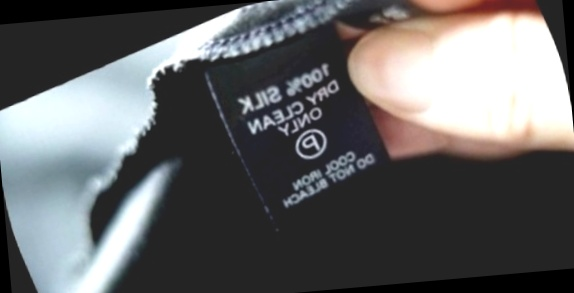dry_clean_any_solvent_except_trichloroethylene: (282, 118, 337, 170)
